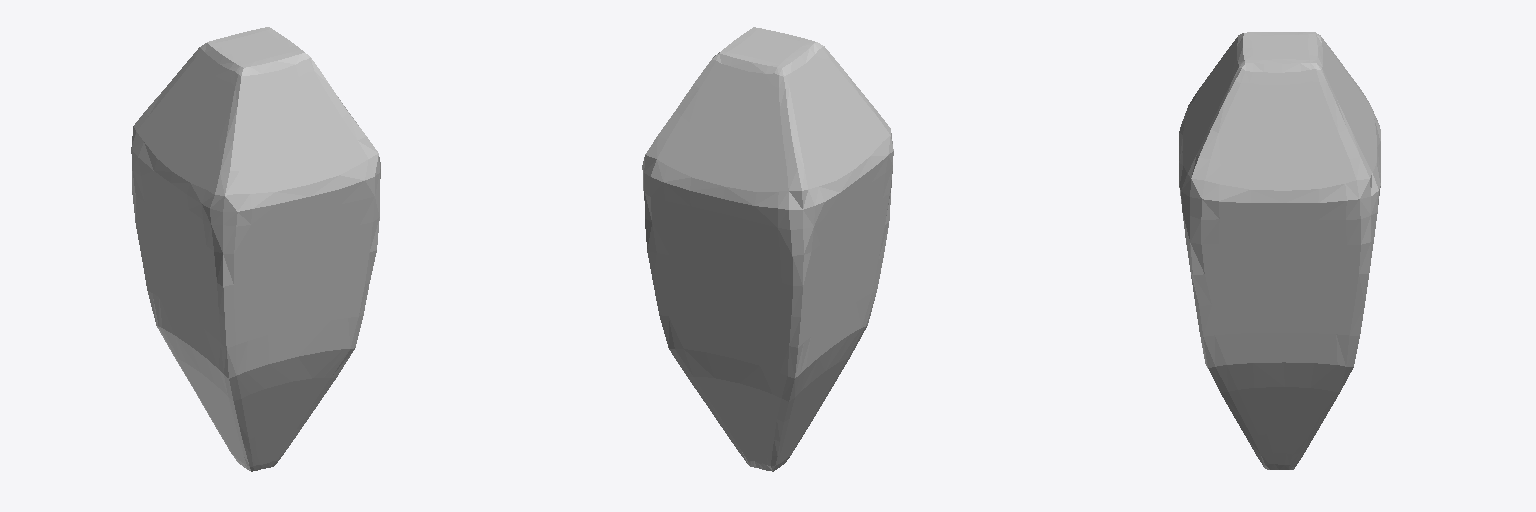
The model's file is GeigerRemastered.OBJ.
3 renders of one model, left to right at view 1: azimuth 30°, elevation 25°; view 2: azimuth 150°, elevation 25°; view 3: azimuth 270°, elevation 25°, orthographic.
Parts seen in each view (by area): view 1: Group22412; view 2: Group22412; view 3: Group22412.
Boxes of the visible parts, x1,y1,x2,y2 form: Group22412: [131, 27, 380, 471]; Group22412: [642, 27, 893, 471]; Group22412: [1179, 32, 1380, 469].
Size of the model in its own units: 1.56 by 3.56 by 1.56.